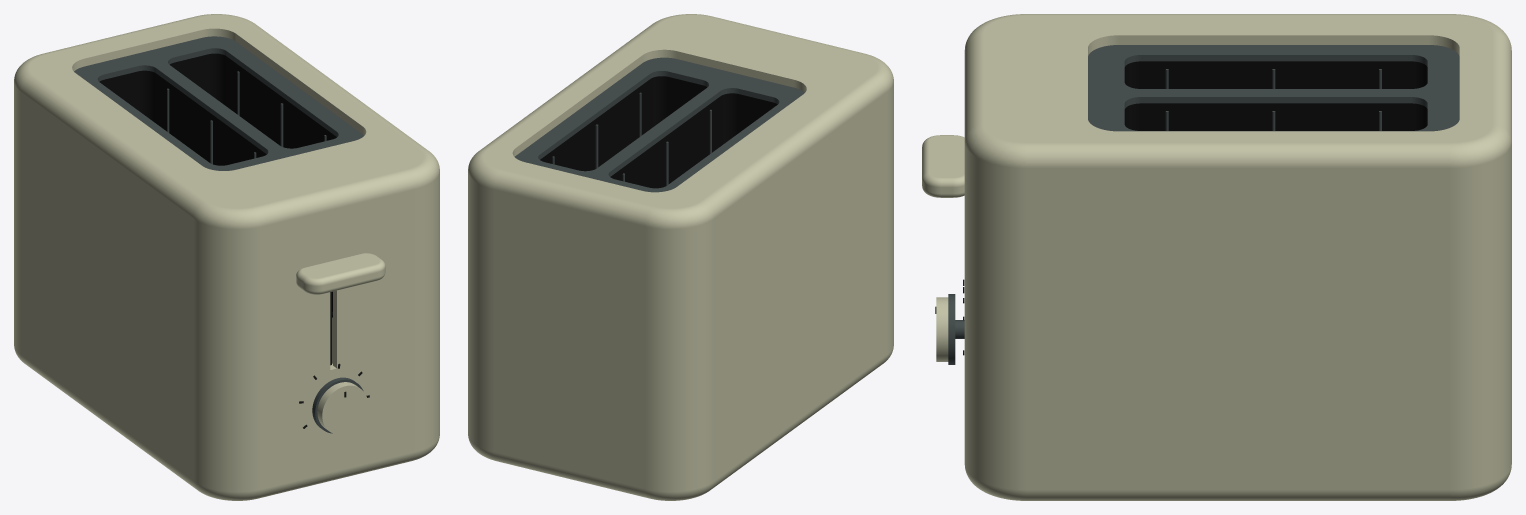
3 views of the same model, side by side, from view 1: azimuth 30°, elevation 25°; view 2: azimuth 150°, elevation 25°; view 3: azimuth 270°, elevation 25° (orthographic). The views are drawn at different scales.
Visible parts, largest first — view 1: /Asset/Links/body/Visuals/housing/Geom/housing_obj, /Asset/Links/body/Visuals/rim/Geom/rim_obj, /Asset/Links/body/Visuals/well1/Geom/well1_obj, /Asset/Links/body/Visuals/well0/Geom/well0_obj, /Asset/Links/bread_lift/Visuals/handle/Geom/lift_handle_obj, /Asset/Links/browning_dial/Visuals/dial/Geom, /Asset/Links/browning_dial/Visuals/knurled_ring/Geom; view 2: /Asset/Links/body/Visuals/housing/Geom/housing_obj, /Asset/Links/body/Visuals/rim/Geom/rim_obj, /Asset/Links/body/Visuals/well1/Geom/well1_obj, /Asset/Links/body/Visuals/well0/Geom/well0_obj; view 3: /Asset/Links/body/Visuals/housing/Geom/housing_obj, /Asset/Links/body/Visuals/rim/Geom/rim_obj, /Asset/Links/body/Visuals/well0/Geom/well0_obj, /Asset/Links/body/Visuals/well1/Geom/well1_obj, /Asset/Links/bread_lift/Visuals/handle/Geom/lift_handle_obj, /Asset/Links/browning_dial/Visuals/dial/Geom.
Boxes of the visible parts, <box> form: /Asset/Links/body/Visuals/housing/Geom/housing_obj: <box>14,14,439,500</box>; /Asset/Links/body/Visuals/rim/Geom/rim_obj: <box>74,36,363,170</box>; /Asset/Links/body/Visuals/well1/Geom/well1_obj: <box>170,53,336,317</box>; /Asset/Links/body/Visuals/well0/Geom/well0_obj: <box>99,70,266,165</box>; /Asset/Links/bread_lift/Visuals/handle/Geom/lift_handle_obj: <box>296,253,385,294</box>; /Asset/Links/browning_dial/Visuals/dial/Geom: <box>317,382,367,434</box>; /Asset/Links/browning_dial/Visuals/knurled_ring/Geom: <box>312,377,363,433</box>; /Asset/Links/body/Visuals/housing/Geom/housing_obj: <box>468,14,893,500</box>; /Asset/Links/body/Visuals/rim/Geom/rim_obj: <box>515,57,804,192</box>; /Asset/Links/body/Visuals/well1/Geom/well1_obj: <box>540,76,706,171</box>; /Asset/Links/body/Visuals/well0/Geom/well0_obj: <box>610,93,777,188</box>; /Asset/Links/body/Visuals/housing/Geom/housing_obj: <box>964,14,1511,500</box>; /Asset/Links/body/Visuals/rim/Geom/rim_obj: <box>1088,45,1459,131</box>; /Asset/Links/body/Visuals/well0/Geom/well0_obj: <box>1124,61,1427,88</box>; /Asset/Links/body/Visuals/well1/Geom/well1_obj: <box>1124,103,1427,130</box>; /Asset/Links/bread_lift/Visuals/handle/Geom/lift_handle_obj: <box>922,135,964,197</box>; /Asset/Links/browning_dial/Visuals/dial/Geom: <box>936,297,948,361</box>.
Bounding box in the file's own units: 0.143 × 0.166 × 0.249.
